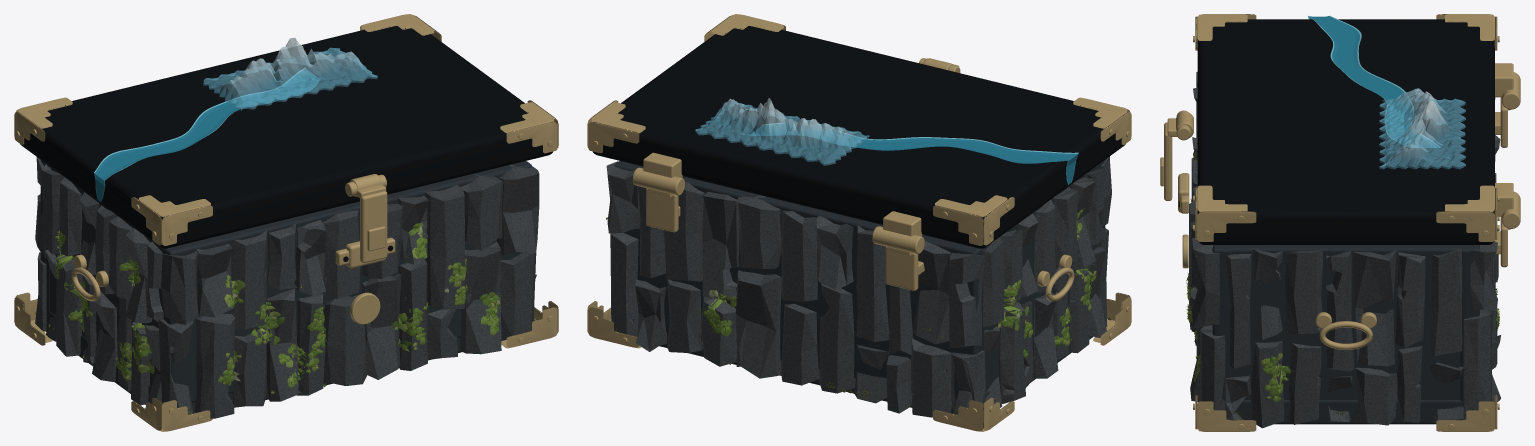
Rendered from iceland.glb.
3 renders of one model, left to right at view 1: azimuth 30°, elevation 25°; view 2: azimuth 150°, elevation 25°; view 3: azimuth 270°, elevation 25°, orthographic. The views are drawn at different scales.
Parts seen in each view (by area): view 1: Lid / polished slab, Glacier / crevassed asymmetric ridge, Interior wall / front, Basalt fracture / front.017, River / depth graded connected channel, Basalt fracture / front.002, Basalt fracture / front.018, Basalt fracture / front.010, Basalt fracture / front.021, Basalt fracture / front.012, Basalt fracture / front.005, Basalt fracture / front.020 (+53 smaller); view 2: Lid / polished slab, Interior wall / rear, Glacier / crevassed asymmetric ridge, Basalt fracture / rear.012, River / depth graded connected channel, Basalt fracture / rear.015, Basalt fracture / rear.008, Basalt fracture / rear.007, Basalt fracture / rear.011, Basalt fracture / rear.003, Basalt fracture / rear.001, Basalt fracture / rear.017 (+52 smaller); view 3: Lid / polished slab, Interior wall / end.001, Glacier / crevassed asymmetric ridge, Basalt fracture / right.009, River / depth graded connected channel, Basalt fracture / right.013, Basalt fracture / right.005, Basalt fracture / rear.020, Basalt fracture / right.007, Basalt fracture / right.011, Basalt fracture / right.001, Basalt fracture / right.004 (+33 smaller).
Boxes of the visible parts, x1,y1,x2,y2 form: Lid / polished slab: [20, 26, 553, 248]; Glacier / crevassed asymmetric ridge: [203, 37, 377, 110]; Interior wall / front: [162, 161, 532, 402]; Basalt fracture / front.017: [425, 185, 465, 309]; River / depth graded connected channel: [94, 68, 319, 180]; Basalt fracture / front.002: [195, 314, 235, 418]; Basalt fracture / front.018: [460, 242, 501, 354]; Basalt fracture / front.010: [323, 294, 366, 385]; Basalt fracture / front.021: [497, 164, 539, 255]; Basalt fracture / front.012: [362, 273, 401, 379]; Basalt fracture / front.005: [231, 230, 267, 329]; Basalt fracture / front.020: [500, 252, 536, 338]; Lid / polished slab: [592, 26, 1125, 248]; Interior wall / rear: [614, 161, 983, 401]; Glacier / crevassed asymmetric ridge: [695, 98, 869, 165]; Basalt fracture / rear.012: [736, 270, 781, 378]; River / depth graded connected channel: [749, 123, 1078, 163]; Basalt fracture / rear.015: [702, 191, 739, 298]; Basalt fracture / rear.008: [819, 283, 855, 393]; Basalt fracture / rear.007: [856, 222, 889, 341]; Basalt fracture / rear.011: [781, 210, 817, 301]; Basalt fracture / rear.003: [912, 241, 950, 344]; Basalt fracture / rear.001: [949, 252, 984, 348]; Basalt fracture / rear.017: [663, 181, 704, 281]; Lid / polished slab: [1197, 19, 1494, 244]; Interior wall / end.001: [1230, 245, 1462, 399]; Glacier / crevassed asymmetric ridge: [1379, 88, 1465, 169]; Basalt fracture / right.009: [1353, 249, 1396, 366]; River / depth graded connected channel: [1308, 15, 1440, 147]; Basalt fracture / right.013: [1430, 249, 1462, 355]; Basalt fracture / right.005: [1285, 249, 1323, 335]; Basalt fracture / rear.020: [1463, 309, 1491, 419]; Basalt fracture / right.007: [1325, 250, 1354, 371]; Basalt fracture / right.011: [1395, 252, 1425, 347]; Basalt fracture / right.001: [1226, 254, 1251, 368]; Basalt fracture / right.004: [1289, 343, 1321, 424].
Bounding box in the file's own units: 3.83 × 2.28 × 2.88.
19 materials, 5 textured.
